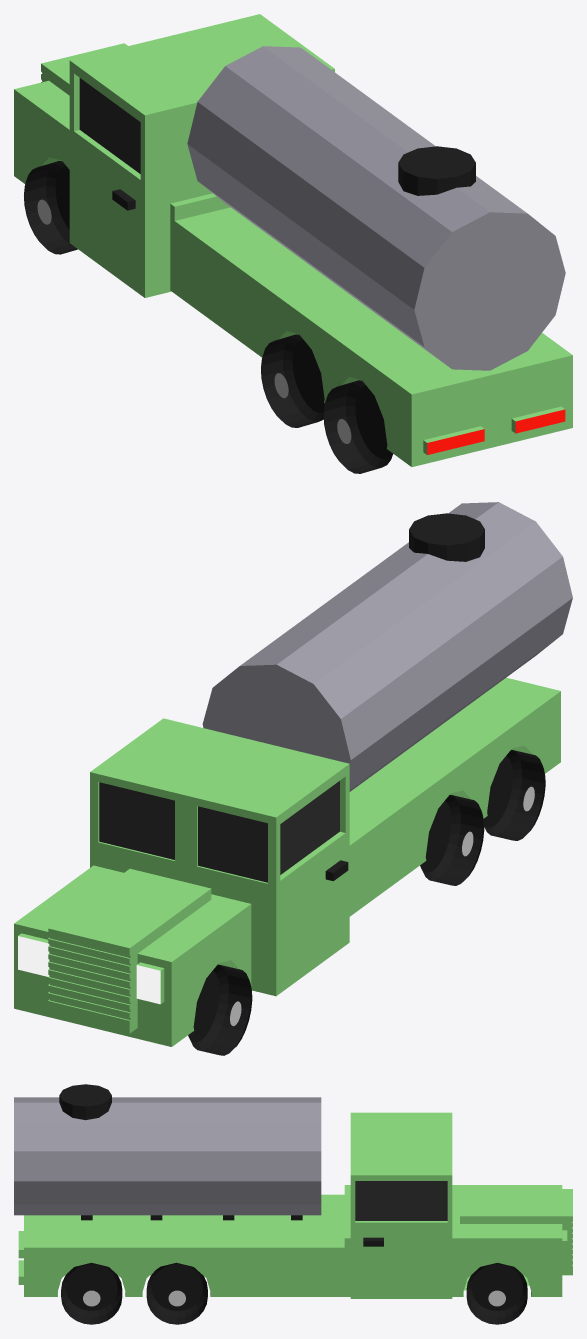
The model's file is TRUCK.glb.
3 views of the same model, one above another, from view 1: azimuth 30°, elevation 25°; view 2: azimuth 150°, elevation 25°; view 3: azimuth 270°, elevation 25° (orthographic). The views are drawn at different scales.
Visible parts, largest first — view 1: Cylinder, Plane.002, Cube.007, Plane.001, Circle.004, Circle.003, Circle.005, Cylinder.001, Cube.001; view 2: Cylinder, Cube.007, Plane.002, Plane.001, Cube.001, Circle.005, Circle.003, Circle.004, Cylinder.001; view 3: Cylinder, Plane.002, Cube.007, Plane.001, Cube.001, Circle, Circle.002, Circle.001, Cylinder.001.
Part boxes in pixels (x1=…): Cylinder: x1=187, y1=46, x2=565, y2=370; Plane.002: x1=174, y1=207, x2=572, y2=466; Cube.007: x1=69, y1=14, x2=334, y2=297; Plane.001: x1=14, y1=80, x2=230, y2=293; Circle.004: x1=323, y1=380, x2=392, y2=473; Circle.003: x1=261, y1=334, x2=324, y2=427; Circle.005: x1=24, y1=161, x2=77, y2=254; Cylinder.001: x1=398, y1=146, x2=475, y2=195; Cube.001: x1=41, y1=43, x2=127, y2=95; Cylinder: x1=202, y1=502, x2=572, y2=791; Cube.007: x1=90, y1=718, x2=349, y2=996; Plane.002: x1=349, y1=677, x2=560, y2=916; Plane.001: x1=14, y1=865, x2=251, y2=1046; Cube.001: x1=48, y1=868, x2=211, y2=1033; Circle.005: x1=188, y1=964, x2=252, y2=1055; Circle.003: x1=420, y1=795, x2=484, y2=885; Circle.004: x1=483, y1=750, x2=545, y2=840; Cylinder.001: x1=409, y1=513, x2=484, y2=561; Cylinder: x1=14, y1=1097, x2=321, y2=1215; Plane.002: x1=18, y1=1194, x2=350, y2=1296; Cube.007: x1=350, y1=1112, x2=452, y2=1298; Plane.001: x1=344, y1=1185, x2=567, y2=1296; Cube.001: x1=460, y1=1189, x2=572, y2=1275; Circle: x1=61, y1=1262, x2=122, y2=1324; Circle.002: x1=466, y1=1262, x2=527, y2=1324; Circle.001: x1=146, y1=1262, x2=207, y2=1324; Cylinder.001: x1=59, y1=1084, x2=111, y2=1120.
Bounding box in the file's own units: 1.03 × 1.38 × 3.54.
